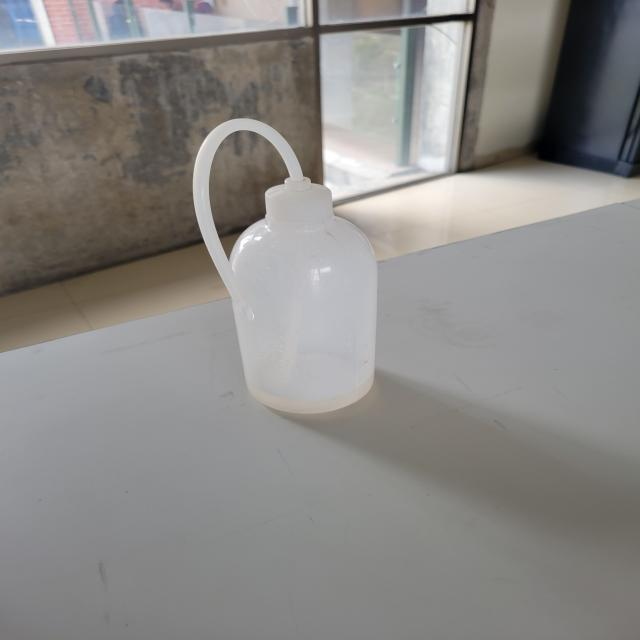Wash_Bottle: (125, 99, 433, 457)
